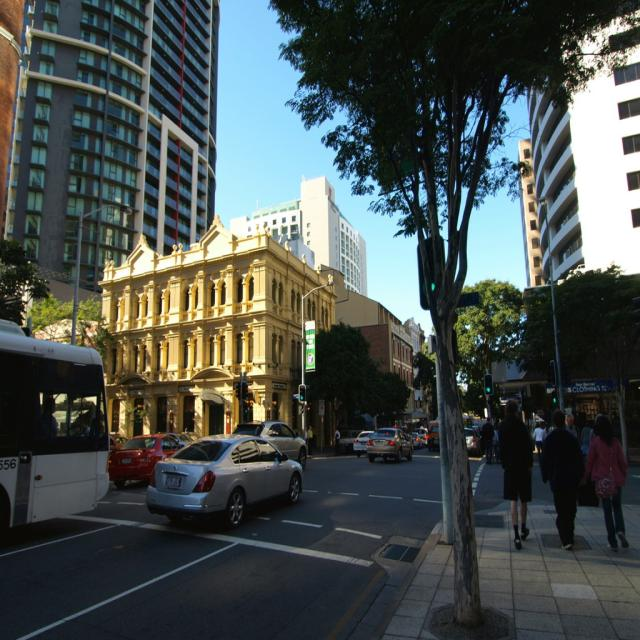car: (144, 429, 305, 526)
